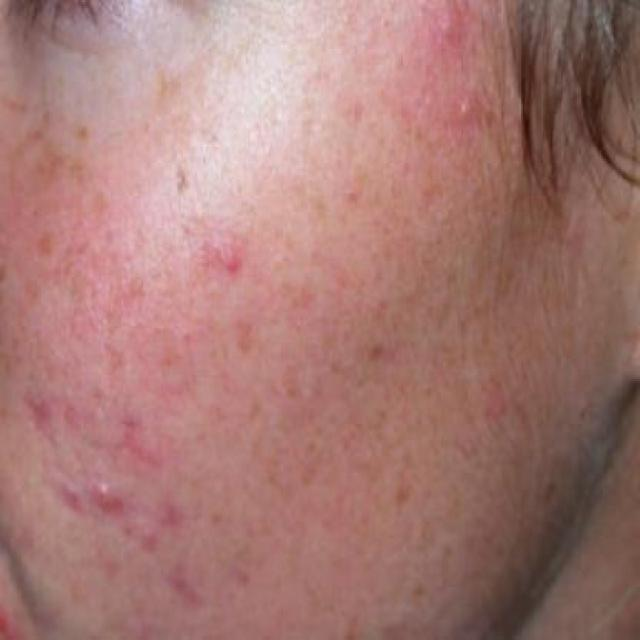dark spot: (28, 375, 52, 440), (22, 222, 62, 261), (106, 396, 145, 434), (128, 528, 162, 571), (361, 332, 394, 371), (157, 491, 189, 530), (171, 159, 195, 204), (168, 554, 192, 598), (71, 110, 98, 143)
nodules: (206, 230, 257, 294), (431, 8, 463, 53)
pustules: (83, 466, 128, 516), (444, 90, 478, 120)
